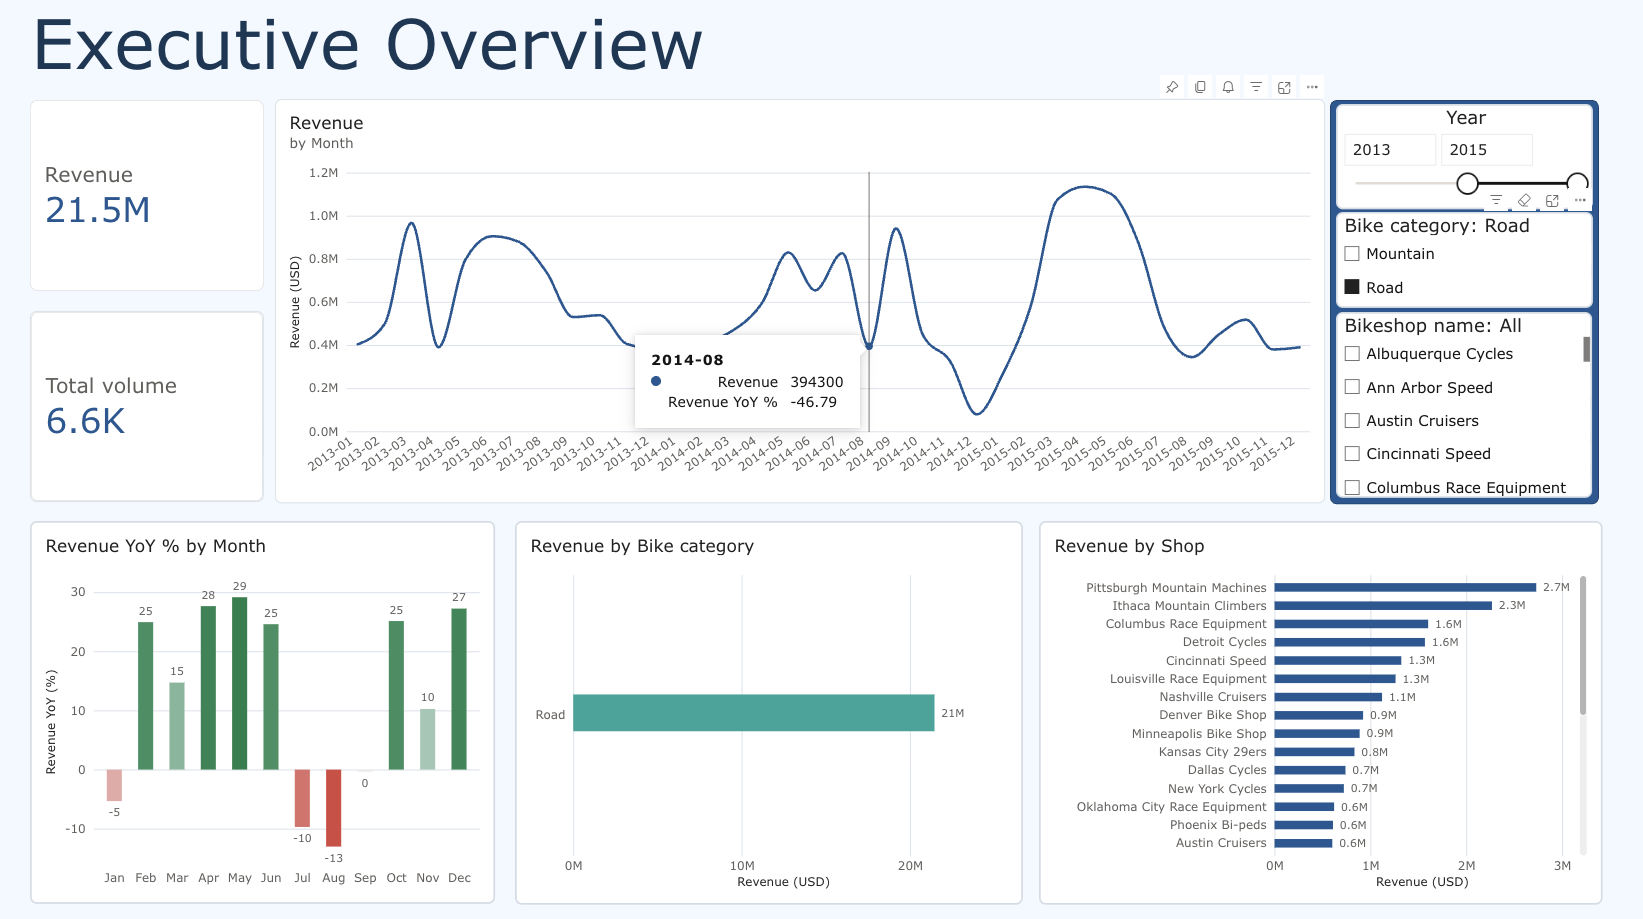

Layout of this report page (visuals, bound fields, positions):
{"tool":"powerbi","page":{"name":"Executive Overview","canvas":[1920,1080],"ordinal":0},"visuals":[{"type":"lineChart","title":"Revenue","fields":{"Category":["Calendar.Year Month"],"Y":["orders.Revenue"]},"box":[322,116,1226,472],"z":0},{"type":"clusteredBarChart","title":"Revenue by Bike category","fields":{"Category":["bikes.category1","bikes.category2"],"Series":["bikes.category1"],"Y":["orders.Revenue"]},"box":[602.6,608.6,592.5,447.5],"z":1000},{"type":"barChart","title":"Revenue by Shop","fields":{"Category":["bikeshop.bikeshop.name"],"Y":["orders.Revenue"]},"box":[1214.8,608.6,657.5,447.5],"z":2000},{"type":"textbox","box":[37.7,0,922.1,99.6],"z":3000},{"type":"cardVisual","fields":{"Data":["orders.Revenue"]},"box":[36.7,116.7,273.3,223.3],"z":4000},{"type":"cardVisual","fields":{"Data":["Sum(orders.quantity)"]},"box":[36.7,363.3,273.3,223.3],"z":5000},{"type":"shape","box":[1553.8,116.6,314,472],"z":6000},{"type":"slicer","title":"Year","fields":{"Values":["Calendar.Year"]},"box":[1561.1,121.5,300.1,122.7],"z":7000},{"type":"slicer","fields":{"Values":["bikes.category1"]},"box":[1561.1,247.8,300.1,111.8],"z":8000},{"type":"slicer","fields":{"Values":["bikeshop.bikeshop.name"]},"box":[1561.1,364.5,298.9,217.5],"z":9000},{"type":"columnChart","title":"Revenue YoY % by Month","fields":{"Category":["Calendar.Month name"],"Y":["orders.Revenue YoY %"]},"box":[36.4,608.6,543,447.1],"z":10000}]}

Visuals, with their boxes in screenshot pixels (x1, y1, x2, y2), scaled from the page's 1920x1080 canvas onto the 1643x919 screenshot:
"Revenue" lineChart: (276, 99, 1325, 500)
"Revenue by Bike category" clusteredBarChart: (516, 518, 1023, 899)
"Revenue by Shop" barChart: (1040, 518, 1602, 899)
textbox: (32, 0, 821, 85)
cardVisual - orders.Revenue: (31, 99, 265, 289)
cardVisual - Sum(orders.quantity): (31, 309, 265, 499)
shape: (1330, 99, 1598, 501)
"Year" slicer: (1336, 103, 1593, 208)
slicer - bikes.category1: (1336, 211, 1593, 306)
slicer - bikeshop.bikeshop.name: (1336, 310, 1592, 495)
"Revenue YoY % by Month" columnChart: (31, 518, 496, 898)
